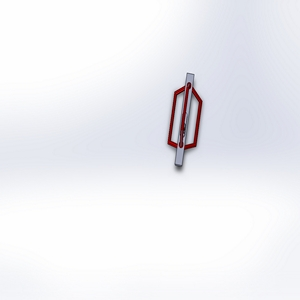submarine: (157, 65, 212, 190)
